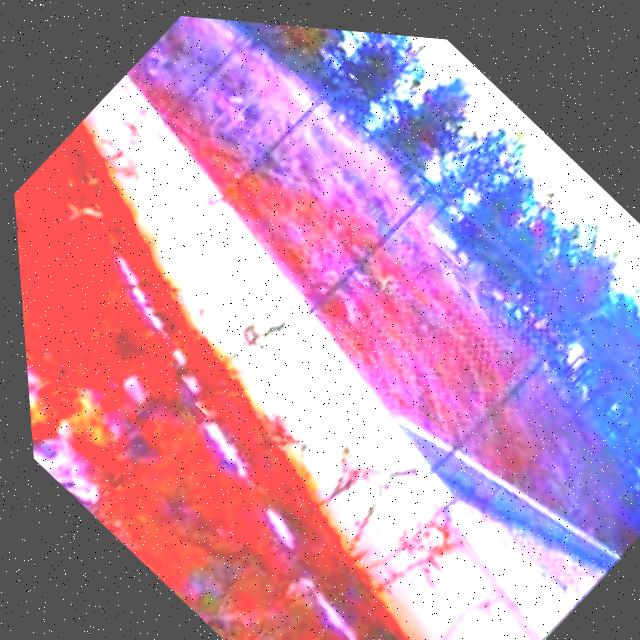Fire: (18, 309, 173, 521)
